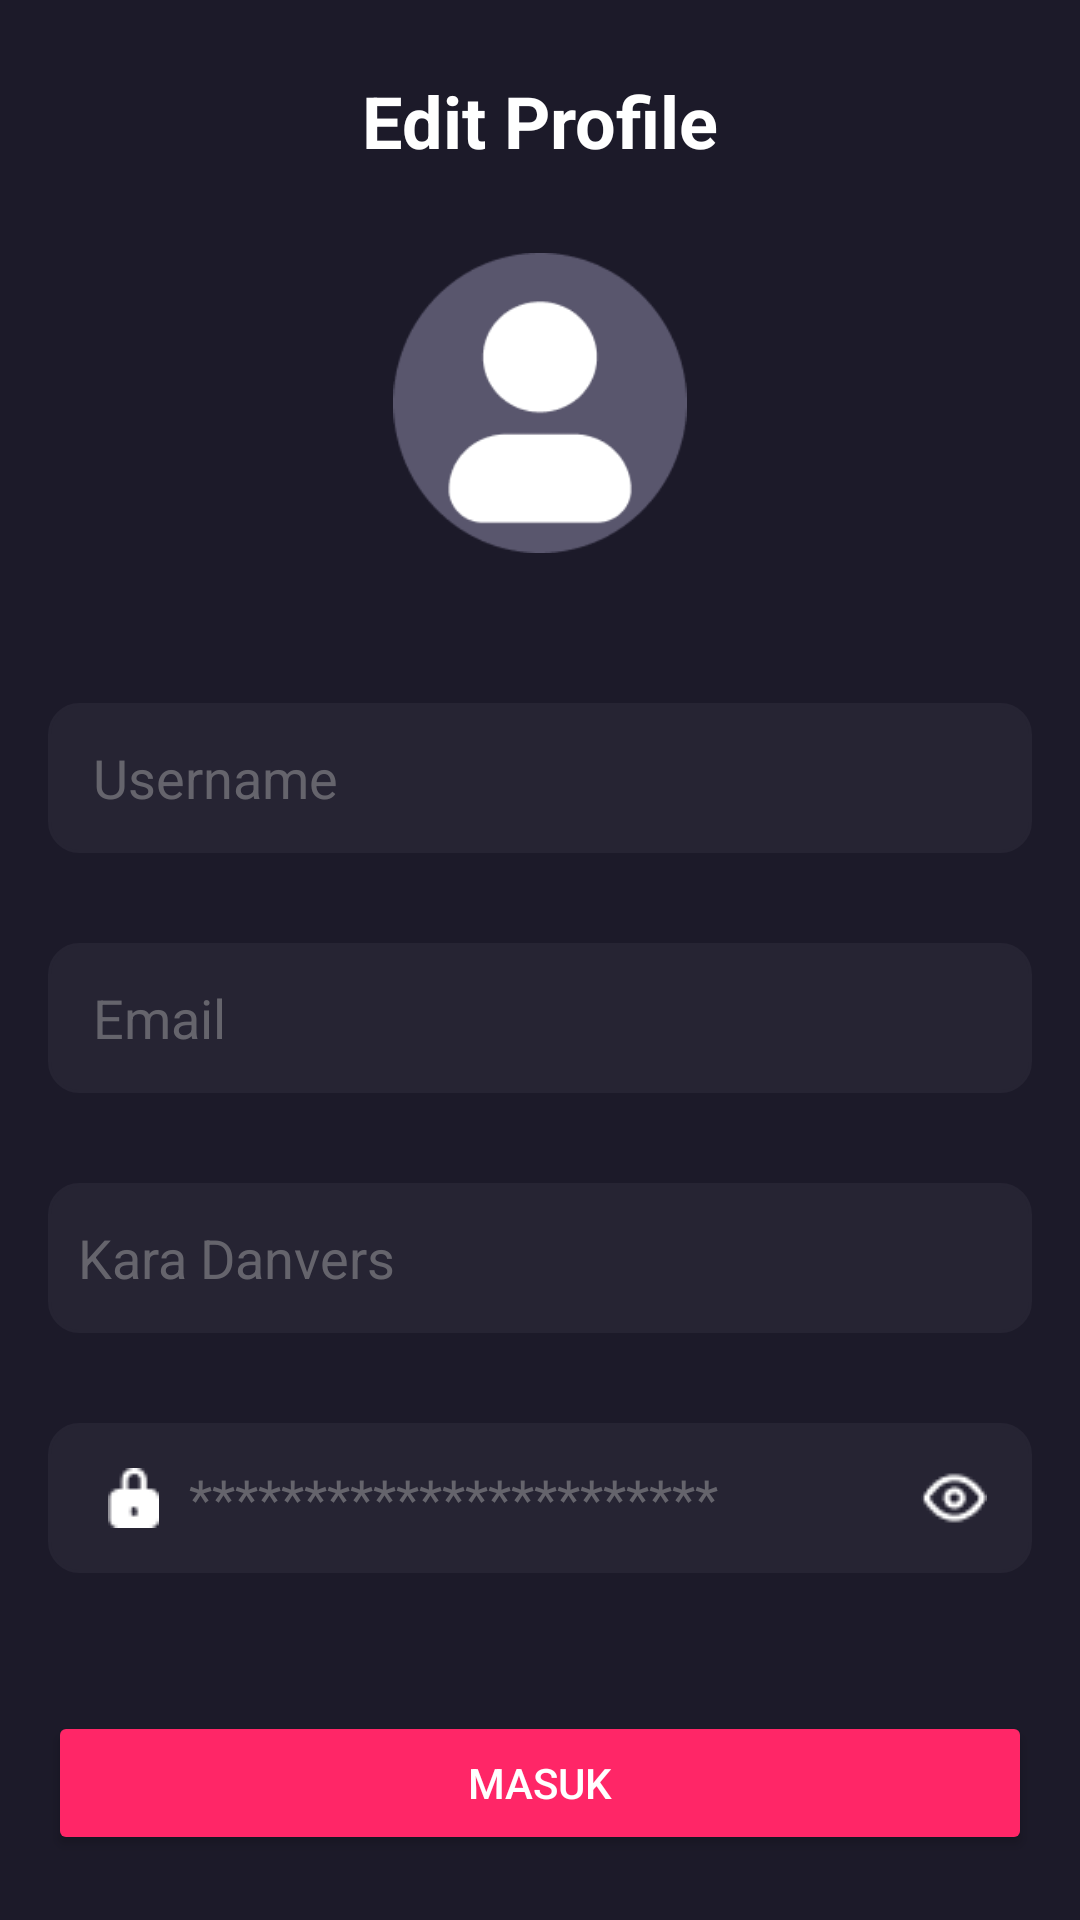

Icon bounding boxes for this 1080w x 1920h phone screenshot, format BBox(x1, y1, x2, y2):
photo user: BBox(393, 253, 687, 553)
